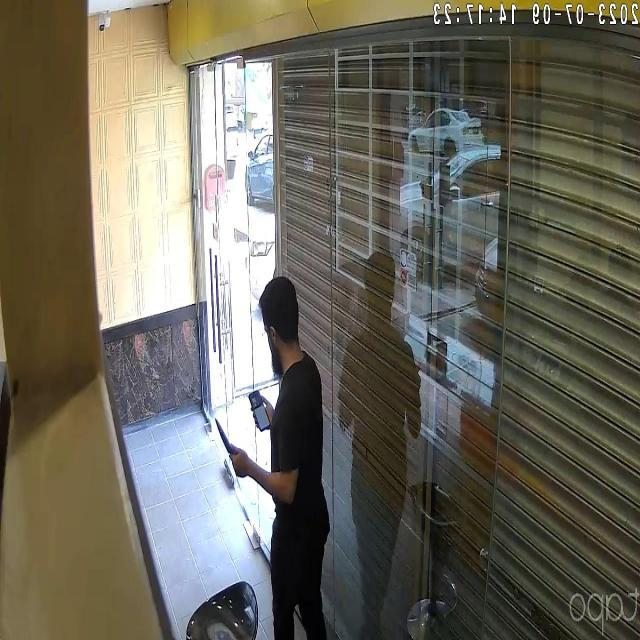Knife: (211, 413, 244, 462)
